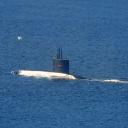submarine: (13, 47, 94, 82)
